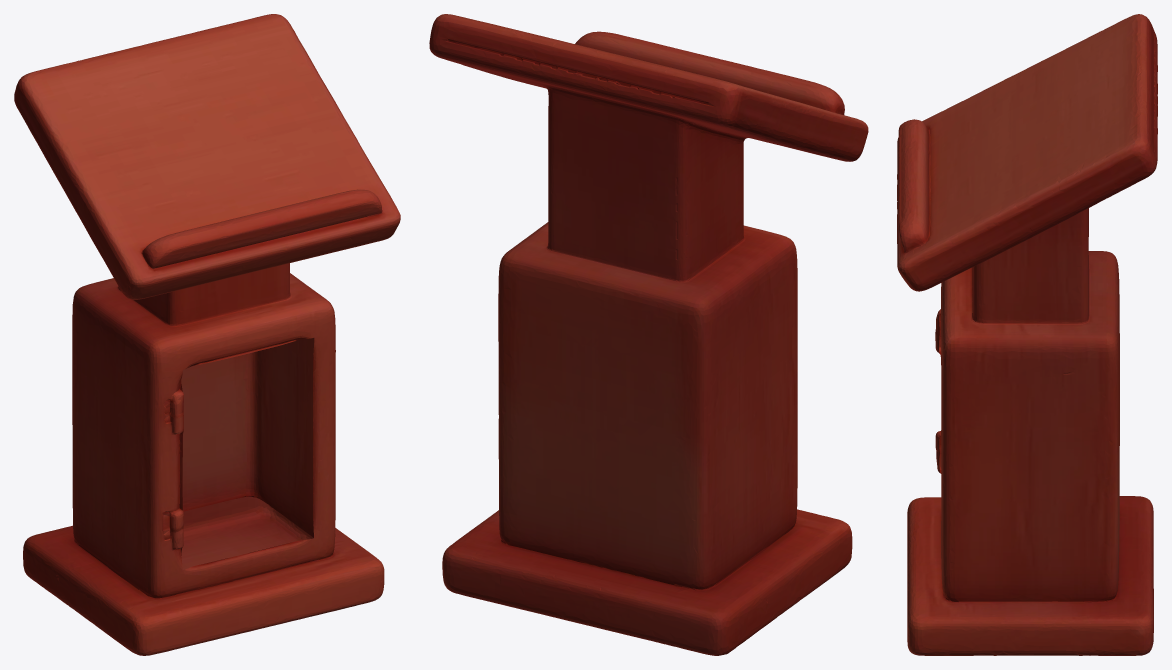
Rendered from body.glb.
3 views of the same model, side by side, from view 1: azimuth 30°, elevation 25°; view 2: azimuth 150°, elevation 25°; view 3: azimuth 270°, elevation 25° (orthographic). The views are drawn at different scales.
Parts seen in each view (by area): view 1: source_surface_0; view 2: source_surface_0; view 3: source_surface_0.
Boxes of the visible parts, <box> form: source_surface_0: <box>14,14,400,655</box>; source_surface_0: <box>429,14,868,655</box>; source_surface_0: <box>897,14,1157,655</box>.
Bounding box in the file's own units: 0.3373 × 0.6 × 0.2718.
1 material, 1 textured.
